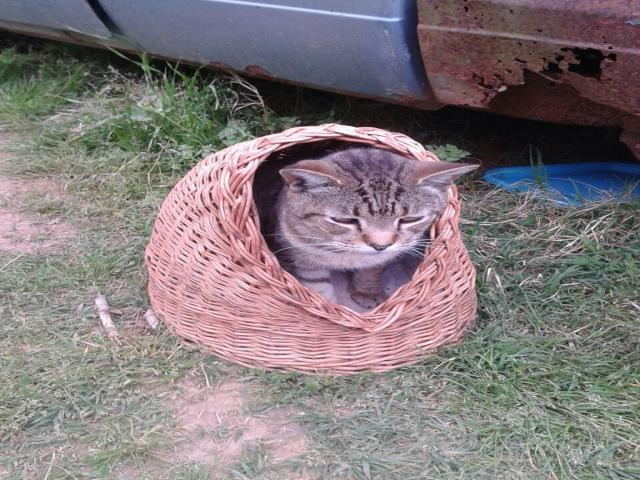Cat: (265, 142, 482, 308)
